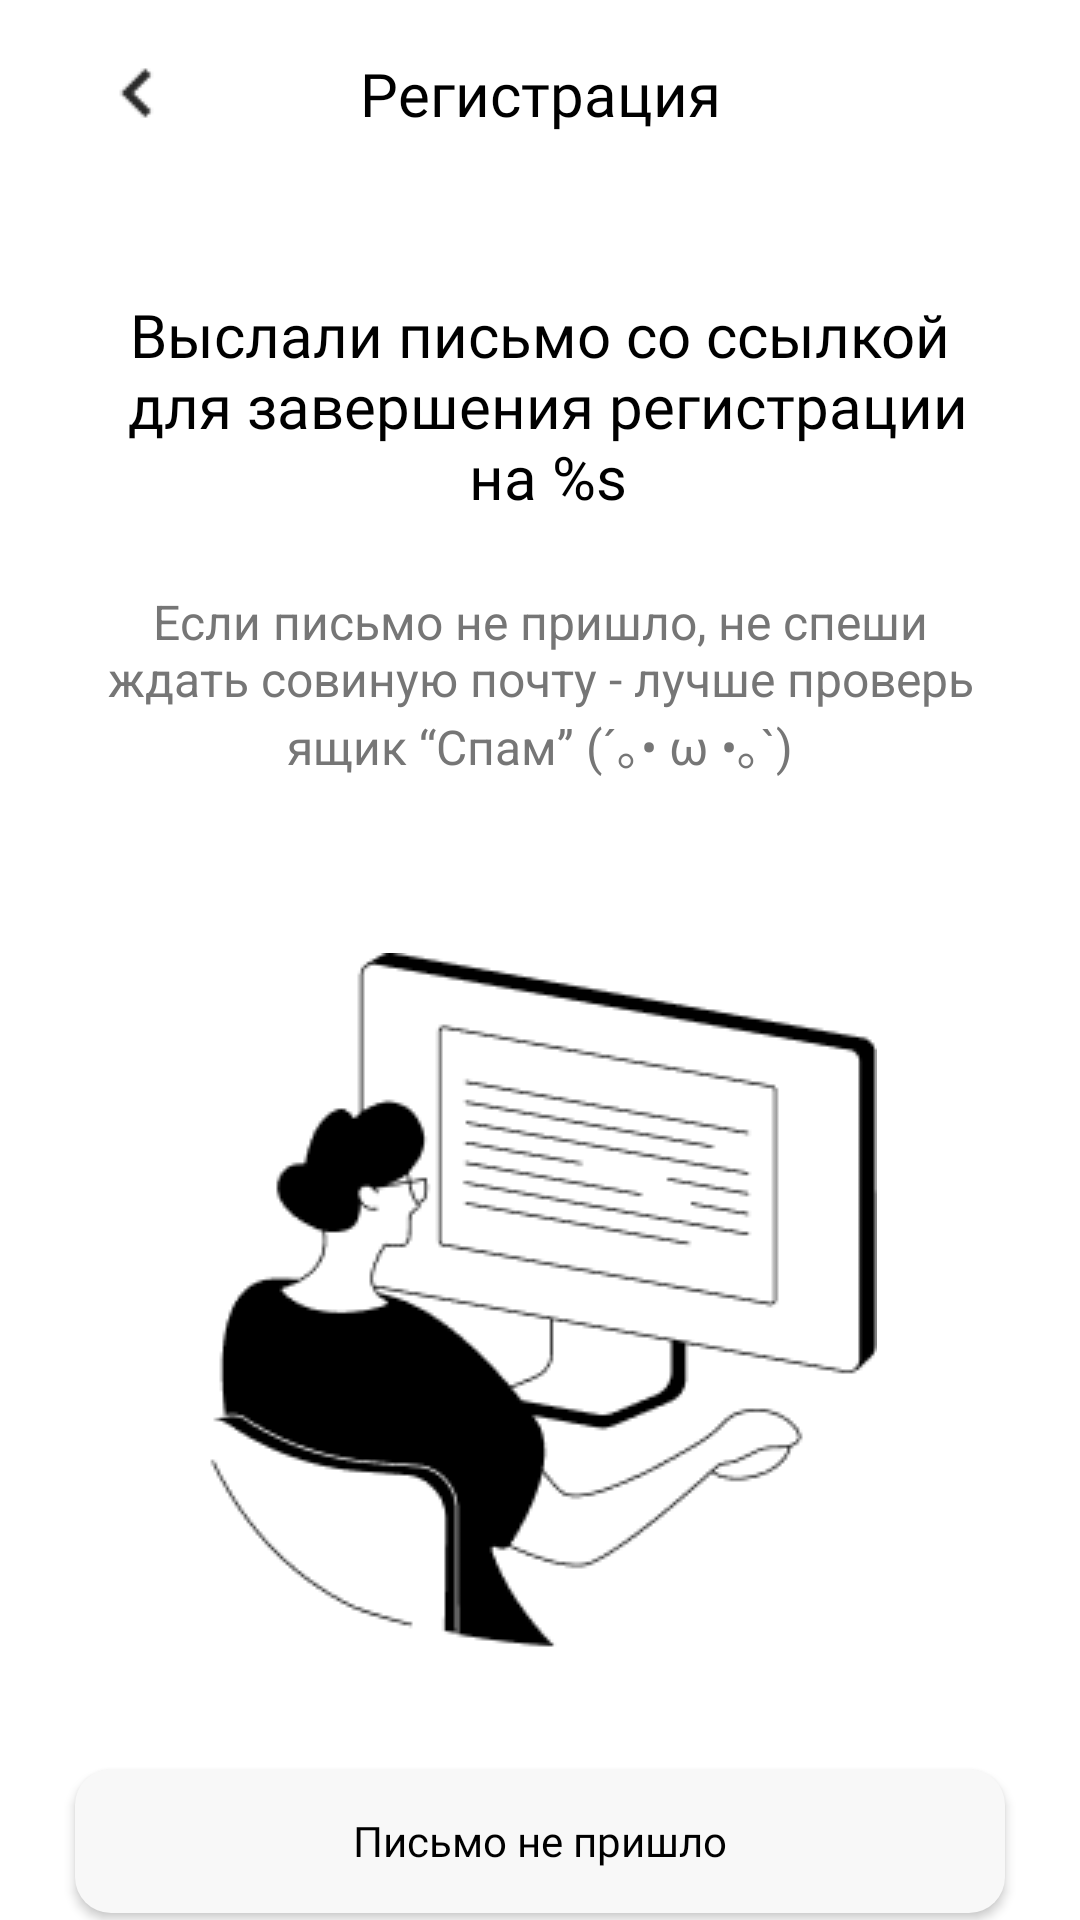

Named icons in this screenshot (1080 × 1920) and their centers, [x,y]:
backicon: [135,93]
